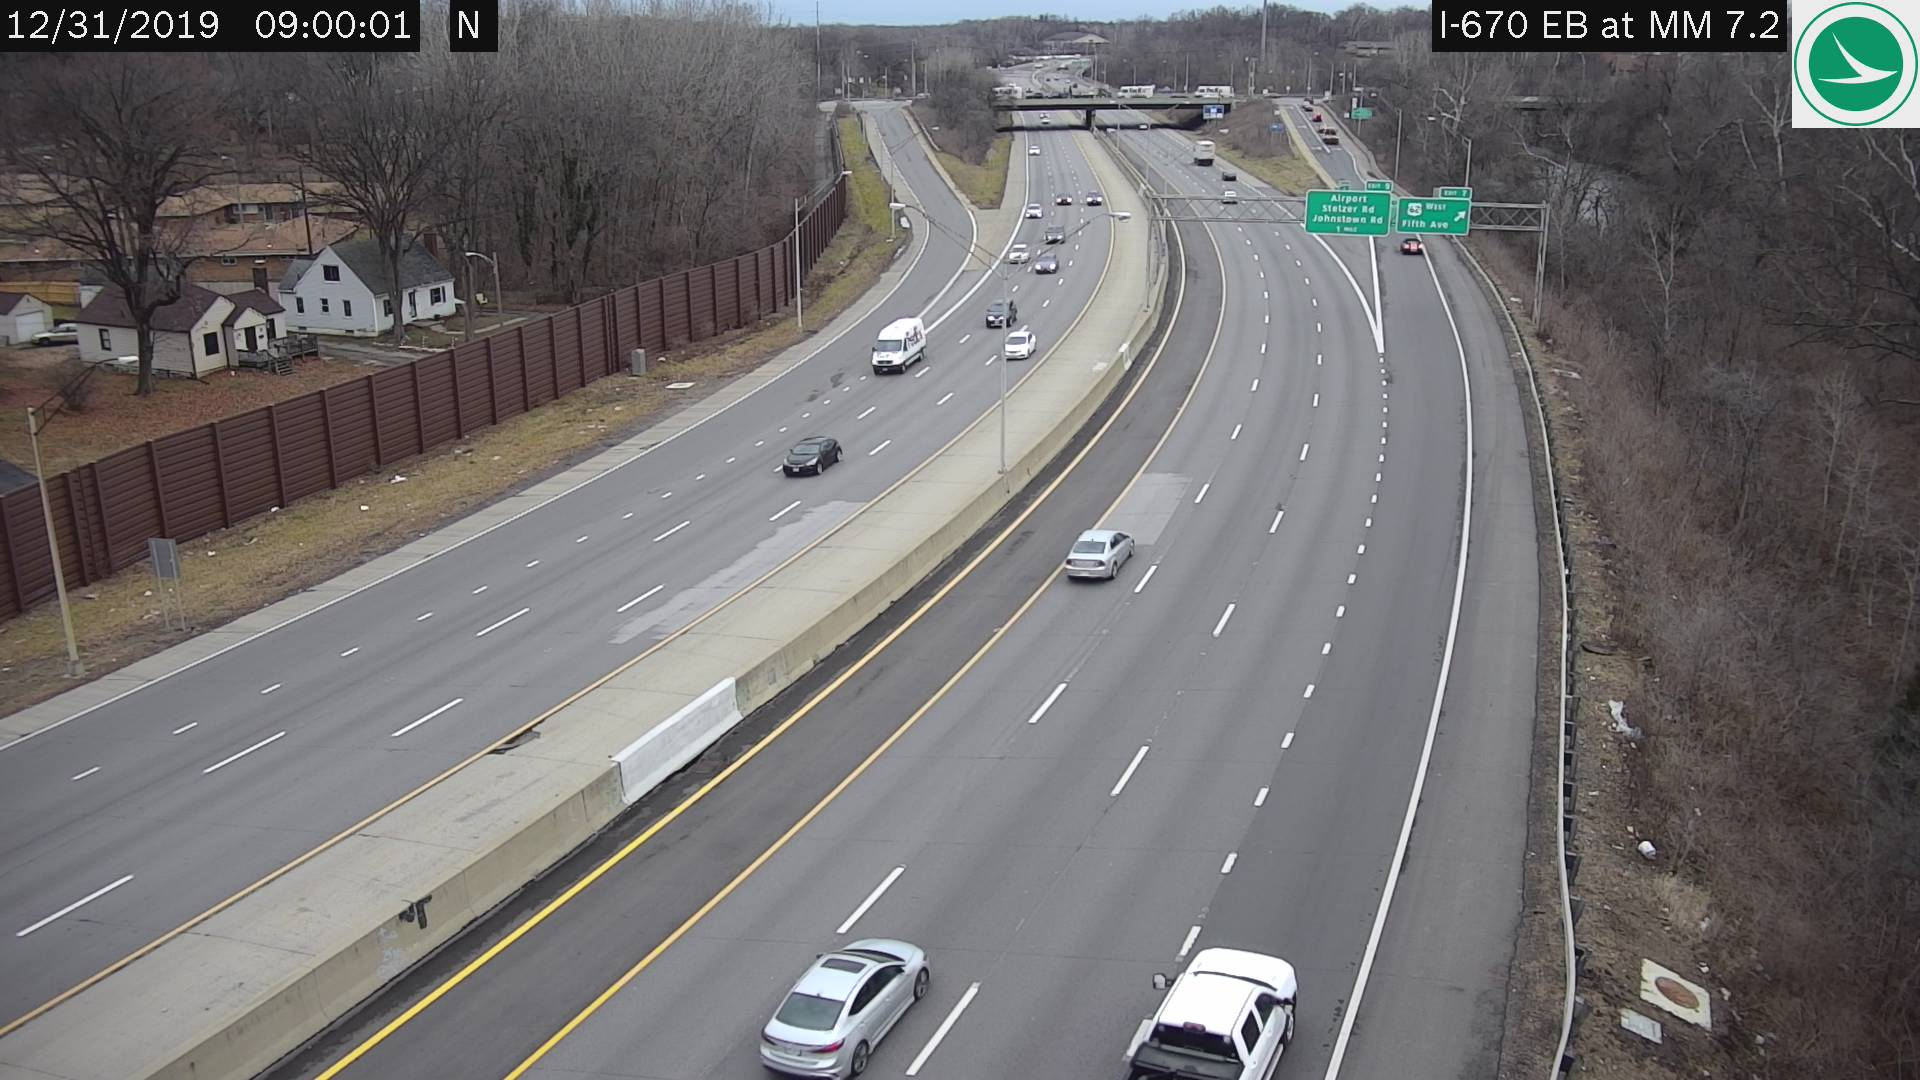car: (762, 936, 930, 1076), (1126, 948, 1298, 1072), (1065, 527, 1134, 584), (872, 316, 926, 372), (782, 433, 837, 480), (1004, 330, 1036, 360), (986, 301, 1015, 330), (1193, 140, 1215, 164), (1007, 243, 1030, 262), (1034, 253, 1058, 272), (1043, 224, 1065, 243), (1403, 237, 1423, 253), (1085, 189, 1102, 204), (1023, 202, 1043, 215), (1054, 191, 1072, 204), (1221, 167, 1236, 179)
